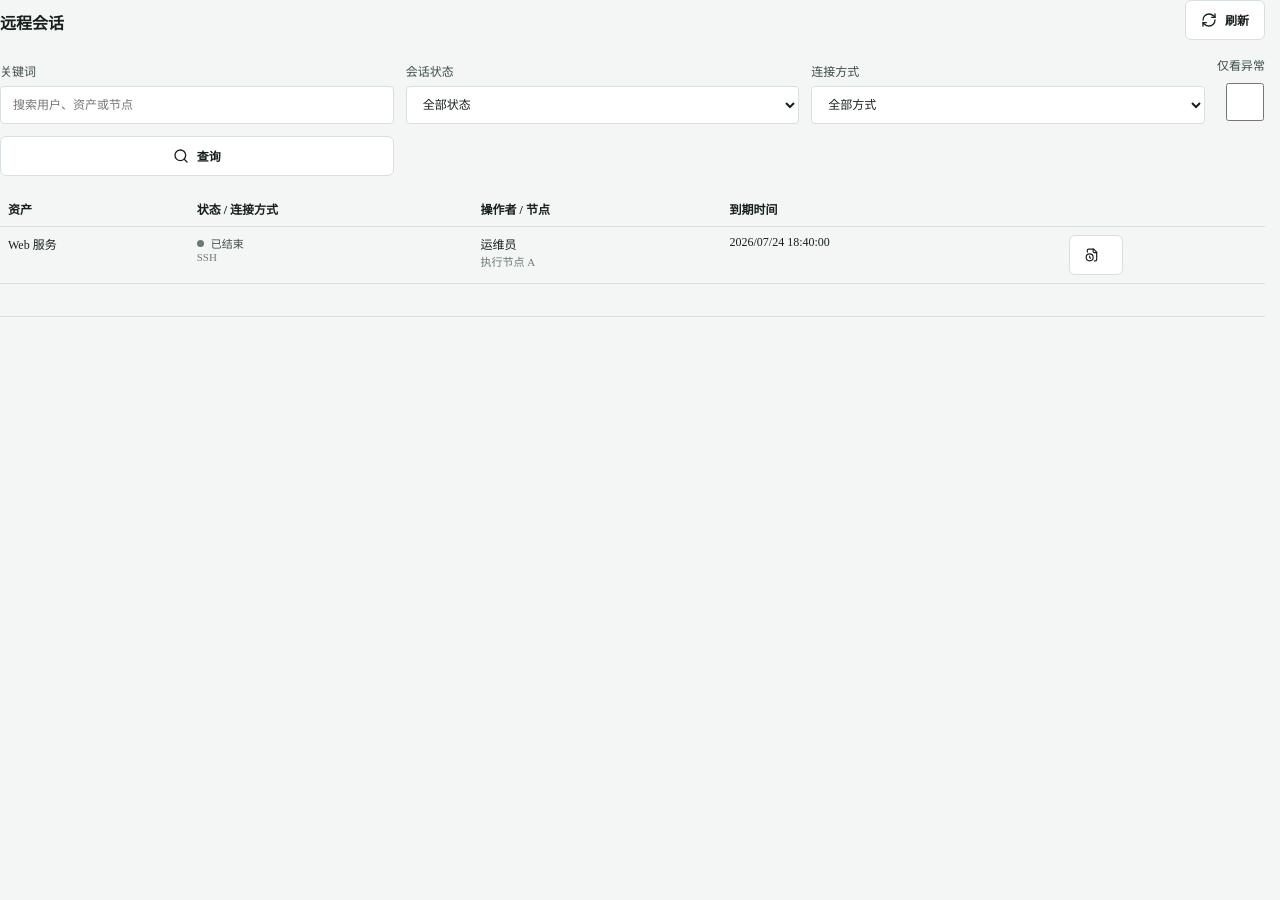
Scenario: RemoteSessionsPanel › opens the selected session audit in a visible drawer and closes it
What coordinates should you click on to do the following:
click the button named "查看 Web 服务 操作审计"
I would click on:
 (1096, 255)
Its box is 1069,235 -> 1123,275.
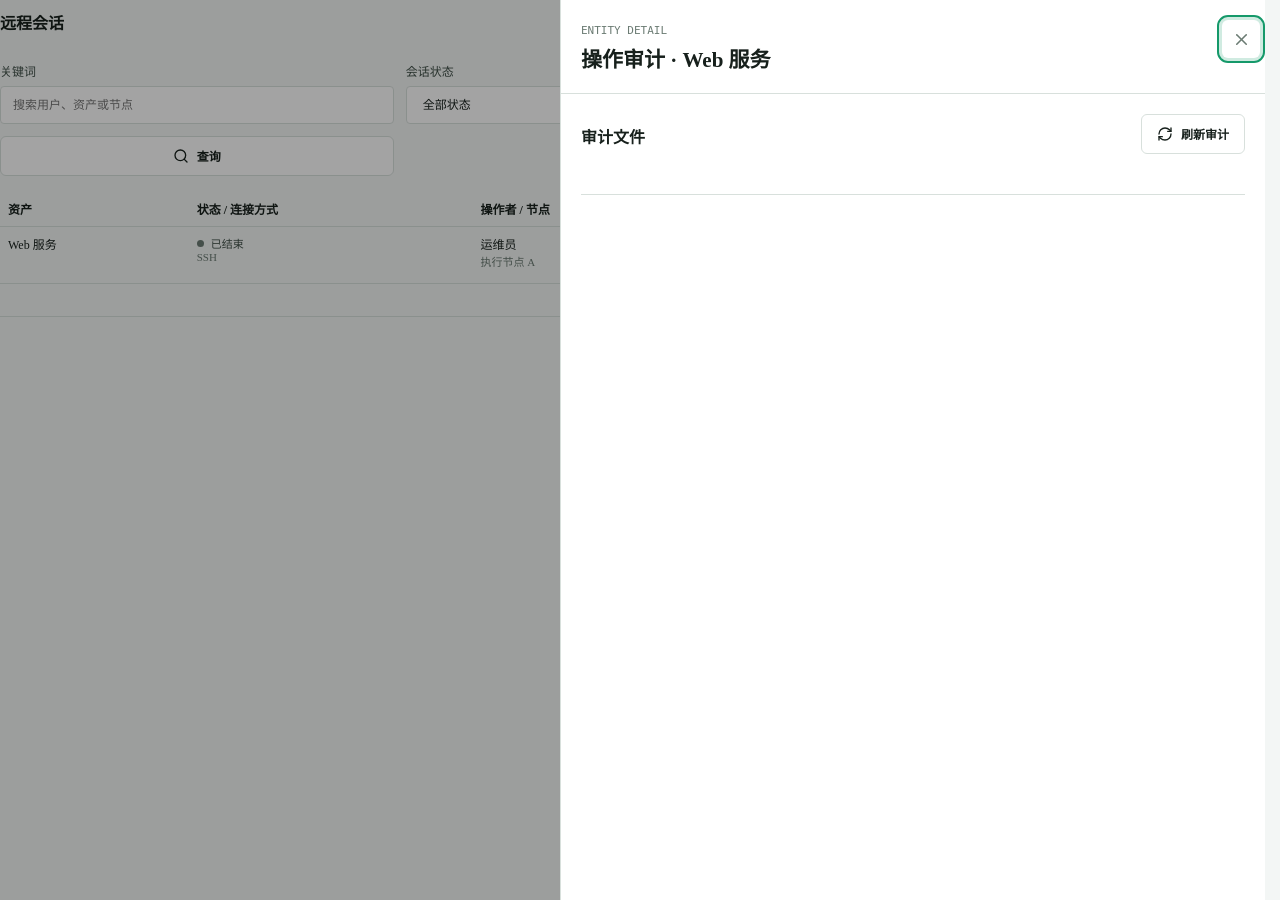
Now the heading "审计文件" is shown, box 581,124 -> 645,148
What coordinates should you click on to do the following:
click the button named "关闭"
I would click on:
 (1241, 39)
Its box is 1222,20 -> 1260,58.
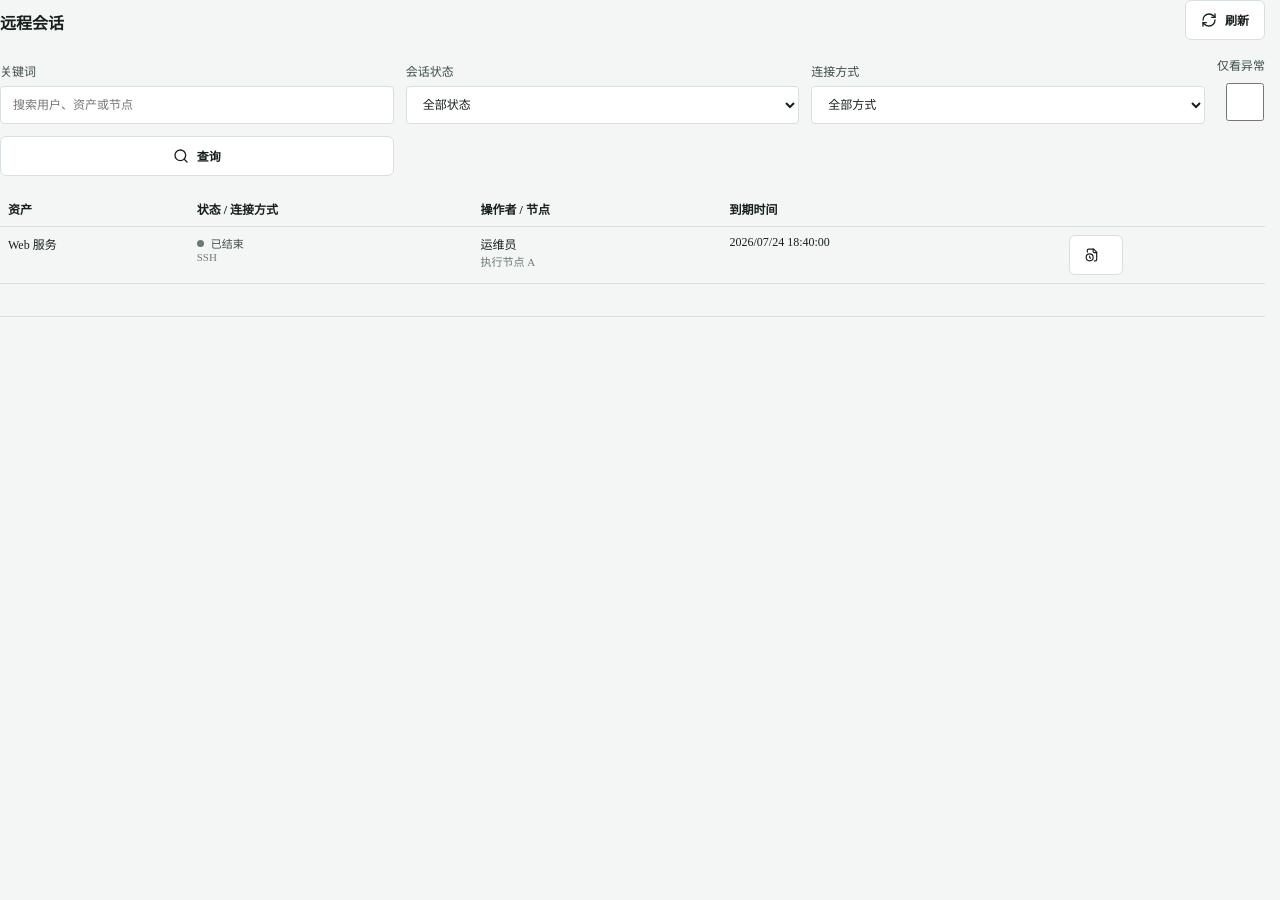
Now the heading "操作审计 · Web 服务" is gone
